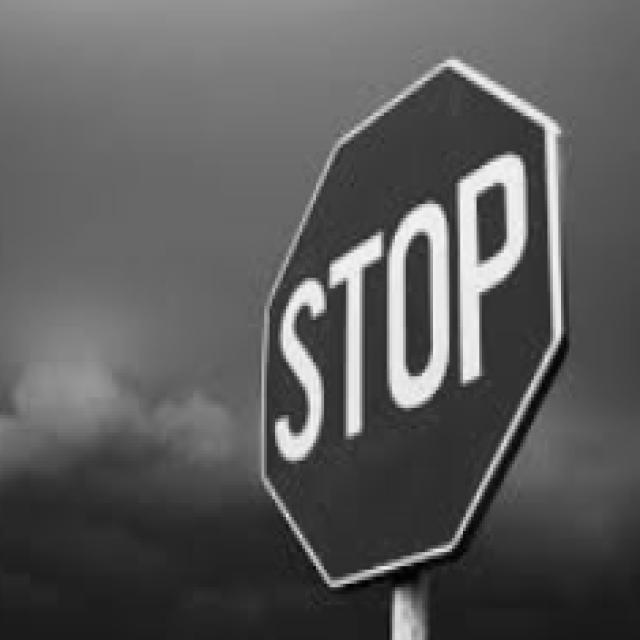Stop-signs: (260, 59, 565, 590)
